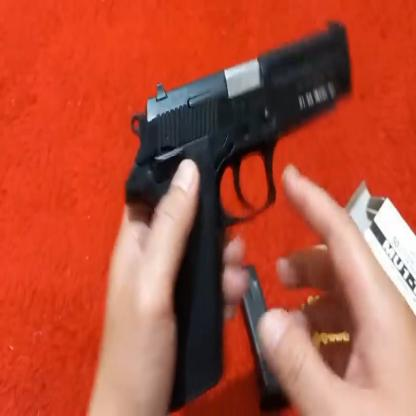handgun: (128, 11, 360, 416)
